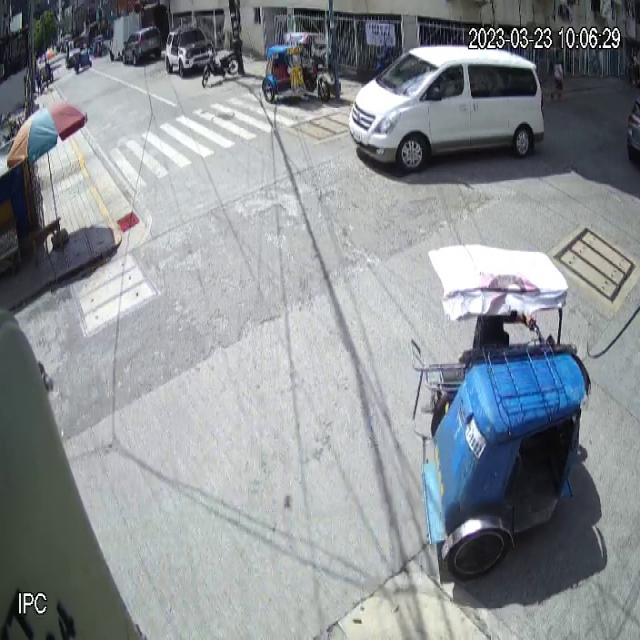Tricycle: (407, 243, 594, 583), (262, 32, 331, 104)
Van: (347, 40, 545, 176)
